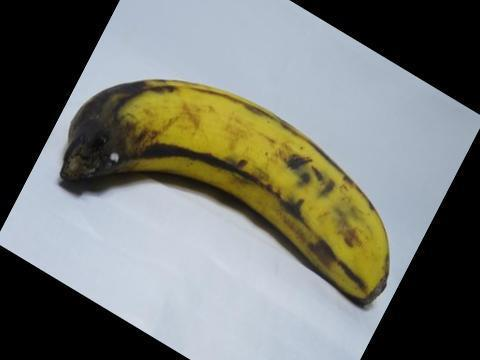overripe: (56, 66, 399, 336)
rotten: (56, 81, 205, 190)
